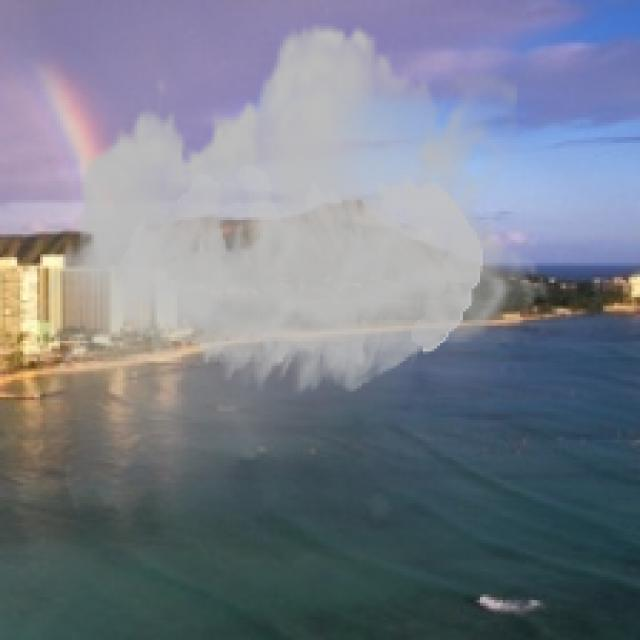Smoke: (34, 3, 552, 546)
